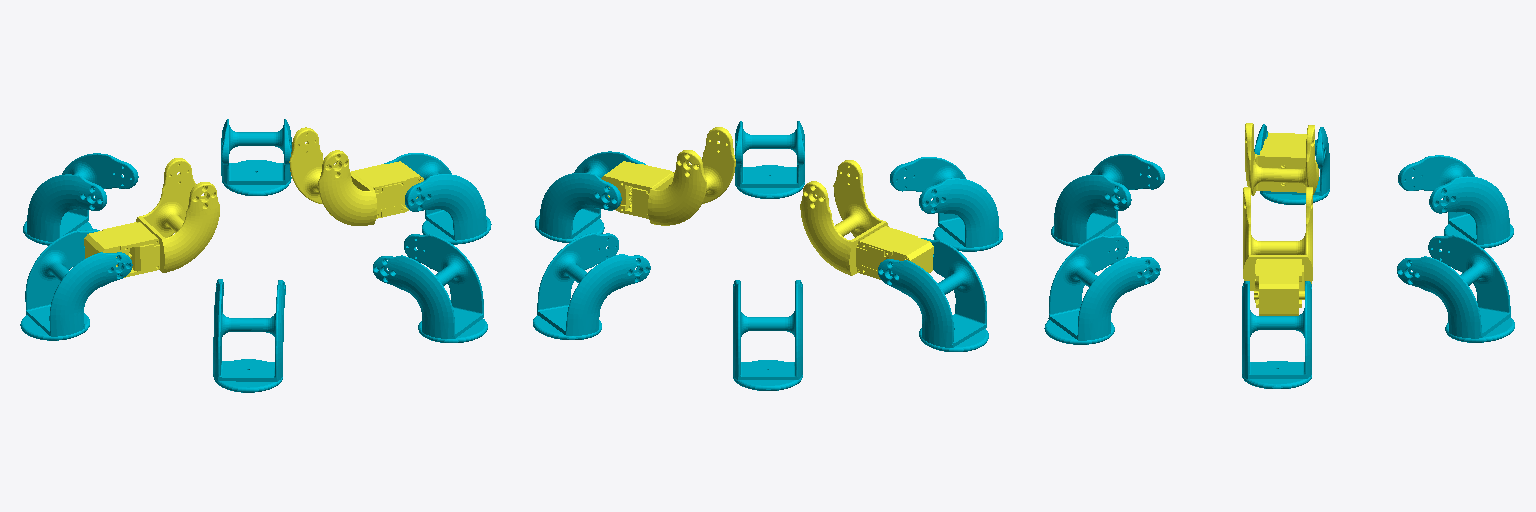
The robot description file, URDF, robot "dumbo":
<?xml version="1.0" encoding="utf-8"?>
<!-- This URDF was automatically created by SolidWorks to URDF Exporter! Originally created by [author] ([email redacted]) 
     Commit Version: 1.6.0-1-g15f4949  Build Version: 1.6.7594.29634
     For more information, please see http://wiki.ros.org/sw_urdf_exporter -->
<robot
  name="dumbo">
  <link
    name="base_link">
    <inertial>
      <origin
        xyz="-0.0003891 -4.683E-05 0.00058807"
        rpy="0 0 0" />
      <mass
        value="0.6644" />
      <inertia
        ixx="0.0015485"
        ixy="0.00031884"
        ixz="1.2531E-06"
        iyy="0.0011871"
        iyz="8.9035E-07"
        izz="0.0014583" />
    </inertial>
    <visual>
      <origin
        xyz="0 0 0"
        rpy="0 0 0" />
      <geometry>
        <mesh
          filename="package://dumbo/meshes/base_link.STL" />
      </geometry>
      <material
        name="">
        <color
          rgba="0 0.92 0.40 .7" />
      </material>
    </visual>
    <collision>
      <origin
        xyz="0 0 0"
        rpy="0 0 0" />
      <geometry>
        <mesh
          filename="package://dumbo/meshes/base_link.STL" />
      </geometry>
    </collision>
  </link>
  <link
    name="Link_1">
    <inertial>
      <origin
        xyz="0.037623 0.00122 -0.036859"
        rpy="0 0 0" />
      <mass
        value="0.055758" />
      <inertia
        ixx="1.7216E-05"
        ixy="2.9228E-09"
        ixz="2.6246E-06"
        iyy="1.5352E-05"
        iyz="3.2628E-11"
        izz="1.9775E-05" />
    </inertial>
    <visual>
      <origin
        xyz="0 0 0"
        rpy="0 0 0" />
      <geometry>
        <mesh
          filename="package://dumbo/meshes/Link_1.STL" />
      </geometry>
      <material
        name="">
        <color
          rgba="1 1 0.27 .7" />
      </material>
    </visual>
    <collision>
      <origin
        xyz="0 0 0"
        rpy="0 0 0" />
      <geometry>
        <mesh
          filename="package://dumbo/meshes/Link_1.STL" />
      </geometry>
    </collision>
  </link>
  <joint
    name="Joint_1"
    type="continuous">
    <origin
      xyz="0.053116 -0.0017161 -0.03956"
      rpy="0 0 0" />
    <parent
      link="base_link" />
    <child
      link="Link_1" />
    <axis
      xyz="0 -1 0" />
  </joint>
  <link
    name="Link_2">
    <inertial>
      <origin
        xyz="0.0300592980712255 0.000323452601505174 -0.0280232914478792"
        rpy="0 0 0" />
      <mass
        value="0.0314122028489567" />
      <inertia
        ixx="1.58162527624386E-05"
        ixy="1.79367144013202E-10"
        ixz="3.56096424632083E-06"
        iyy="1.22648801737665E-05"
        iyz="-1.77050389086186E-10"
        izz="1.69003925901005E-05" />
    </inertial>
    <visual>
      <origin
        xyz="0 0 0"
        rpy="0 0 0" />
      <geometry>
        <mesh
          filename="package://dumbo/meshes/Link_2.STL" />
      </geometry>
      <material
        name="">
        <color
          rgba="0 0.75 0.85 .7" />
      </material>
    </visual>
    <collision>
      <origin
        xyz="0 0 0"
        rpy="0 0 0" />
      <geometry>
        <mesh
          filename="package://dumbo/meshes/Link_2.STL" />
      </geometry>
    </collision>
  </link>
  <joint
    name="Joint_2"
    type="continuous">
    <origin
      xyz="0.071566 0 -0.034398"
      rpy="0 0 0" />
    <parent
      link="Link_1" />
    <child
      link="Link_2" />
    <axis
      xyz="0 1 0" />
  </joint>
  <link
    name="Link_3">
    <inertial>
      <origin
        xyz="-0.0372383623183203 0.00107559636099163 -0.0373010602535738"
        rpy="0 0 0" />
      <mass
        value="0.0557577667089777" />
      <inertia
        ixx="1.7262977682283E-05"
        ixy="-1.69489968723823E-07"
        ixz="-2.64335312248121E-06"
        iyy="1.53666258146298E-05"
        iyz="2.38436585026532E-07"
        izz="1.97124812643958E-05" />
    </inertial>
    <visual>
      <origin
        xyz="0 0 0"
        rpy="0 0 0" />
      <geometry>
        <mesh
          filename="package://dumbo/meshes/Link_3.STL" />
      </geometry>
      <material
        name="">
        <color
          rgba="1 1 0.27 .7" />
      </material>
    </visual>
    <collision>
      <origin
        xyz="0 0 0"
        rpy="0 0 0" />
      <geometry>
        <mesh
          filename="package://dumbo/meshes/Link_3.STL" />
      </geometry>
    </collision>
  </link>
  <joint
    name="Joint_3"
    type="continuous">
    <origin
      xyz="-0.0528669815983072 0.00275904378510602 -0.0395600000000004"
      rpy="0 0 0" />
    <parent
      link="base_link" />
    <child
      link="Link_3" />
    <axis
      xyz="0.0898380495475384 0.995956387023796 0" />
  </joint>
  <link
    name="Link_4">
    <inertial>
      <origin
        xyz="-0.0316383907021758 0.00147070619407172 -0.0242511217385708"
        rpy="0 0 0" />
      <mass
        value="0.0314120671897481" />
      <inertia
        ixx="1.66177005868051E-05"
        ixy="-3.92516383766082E-07"
        ixz="-3.57535683649491E-06"
        iyy="1.23002274687641E-05"
        iyz="3.22695798191187E-07"
        izz="1.60634342613991E-05" />
    </inertial>
    <visual>
      <origin
        xyz="0 0 0"
        rpy="0 0 0" />
      <geometry>
        <mesh
          filename="package://dumbo/meshes/Link_4.STL" />
      </geometry>
      <material
        name="">
        <color
          rgba="0 0.75 0.85 .7" />
      </material>
    </visual>
    <collision>
      <origin
        xyz="0 0 0"
        rpy="0 0 0" />
      <geometry>
        <mesh
          filename="package://dumbo/meshes/Link_4.STL" />
      </geometry>
    </collision>
  </link>
  <joint
    name="Joint_4"
    type="continuous">
    <origin
      xyz="-0.066607 0.0060081 -0.042807"
      rpy="0 0 0" />
    <parent
      link="Link_3" />
    <child
      link="Link_4" />
    <axis
      xyz="-0.089838 -0.99596 0" />
  </joint>
  <link
    name="Link_5">
    <inertial>
      <origin
        xyz="-0.014954 -0.028746 -0.02337"
        rpy="0 0 0" />
      <mass
        value="0.031412" />
      <inertia
        ixx="1.3447E-05"
        ixy="1.8859E-06"
        ixz="-1.9132E-06"
        iyy="1.5272E-05"
        iyz="-3.0504E-06"
        izz="1.6262E-05" />
    </inertial>
    <visual>
      <origin
        xyz="0 0 0"
        rpy="0 0 0" />
      <geometry>
        <mesh
          filename="package://dumbo/meshes/Link_5.STL" />
      </geometry>
      <material
        name="">
        <color
          rgba="0 0.75 0.85 .7" />
      </material>
    </visual>
    <collision>
      <origin
        xyz="0 0 0"
        rpy="0 0 0" />
      <geometry>
        <mesh
          filename="package://dumbo/meshes/Link_5.STL" />
      </geometry>
    </collision>
  </link>
  <joint
    name="Joint_5"
    type="continuous">
    <origin
      xyz="-0.0657559231458219 -0.101379319496857 -0.0820000000000009"
      rpy="0 0 0" />
    <parent
      link="base_link" />
    <child
      link="Link_5" />
    <axis
      xyz="0.847190832012041 -0.531288710735271 0" />
  </joint>
  <link
    name="Link_6">
    <inertial>
      <origin
        xyz="0.0191401353376151 -0.0271899690921557 -0.0221954595021001"
        rpy="0 0 0" />
      <mass
        value="0.0314118845736051" />
      <inertia
        ixx="1.32474865737016E-05"
        ixy="-1.70241252361309E-06"
        ixz="1.79902672883724E-06"
        iyy="1.52131164771294E-05"
        iyz="-3.11615758364275E-06"
        izz="1.65201027200006E-05" />
    </inertial>
    <visual>
      <origin
        xyz="0 0 0"
        rpy="0 0 0" />
      <geometry>
        <mesh
          filename="package://dumbo/meshes/Link_6.STL" />
      </geometry>
      <material
        name="">
        <color
          rgba="0 0.75 0.85 .7" />
      </material>
    </visual>
    <collision>
      <origin
        xyz="0 0 0"
        rpy="0 0 0" />
      <geometry>
        <mesh
          filename="package://dumbo/meshes/Link_6.STL" />
      </geometry>
    </collision>
  </link>
  <joint
    name="Joint_6"
    type="continuous">
    <origin
      xyz="0.057373 -0.10673 -0.082"
      rpy="0 0 0" />
    <parent
      link="base_link" />
    <child
      link="Link_6" />
    <axis
      xyz="0.86603 0.5 0" />
  </joint>
  <link
    name="Link_7">
    <inertial>
      <origin
        xyz="0.019392 0.028273 -0.020519"
        rpy="0 0 0" />
      <mass
        value="0.031412" />
      <inertia
        ixx="1.3158E-05"
        ixy="1.5477E-06"
        ixz="1.7824E-06"
        iyy="1.4946E-05"
        iyz="3.0868E-06"
        izz="1.6877E-05" />
    </inertial>
    <visual>
      <origin
        xyz="0 0 0"
        rpy="0 0 0" />
      <geometry>
        <mesh
          filename="package://dumbo/meshes/Link_7.STL" />
      </geometry>
      <material
        name="">
        <color
          rgba="0 0.75 0.85 .7" />
      </material>
    </visual>
    <collision>
      <origin
        xyz="0 0 0"
        rpy="0 0 0" />
      <geometry>
        <mesh
          filename="package://dumbo/meshes/Link_7.STL" />
      </geometry>
    </collision>
  </link>
  <joint
    name="Joint_7"
    type="continuous">
    <origin
      xyz="0.05886 0.10587 -0.082"
      rpy="0 0 0" />
    <parent
      link="base_link" />
    <child
      link="Link_7" />
    <axis
      xyz="-0.86603 0.5 0" />
  </joint>
  <link
    name="Link_8">
    <inertial>
      <origin
        xyz="-0.012823430092728 0.0309579223793746 -0.0220383000936515"
        rpy="0 0 0" />
      <mass
        value="0.0314118850791331" />
      <inertia
        ixx="1.32389647064647E-05"
        ixy="-1.68765202190941E-06"
        ixz="-1.79817842620008E-06"
        iyy="1.51875495748829E-05"
        iyz="3.11468784206545E-06"
        izz="1.65541914419128E-05" />
    </inertial>
    <visual>
      <origin
        xyz="0 0 0"
        rpy="0 0 0" />
      <geometry>
        <mesh
          filename="package://dumbo/meshes/Link_8.STL" />
      </geometry>
      <material
        name="">
        <color
          rgba="0 0.75 0.85 .7" />
      </material>
    </visual>
    <collision>
      <origin
        xyz="0 0 0"
        rpy="0 0 0" />
      <geometry>
        <mesh
          filename="package://dumbo/meshes/Link_8.STL" />
      </geometry>
    </collision>
  </link>
  <joint
    name="Joint_8"
    type="continuous">
    <origin
      xyz="-0.063742 0.10305 -0.082"
      rpy="0 0 0" />
    <parent
      link="base_link" />
    <child
      link="Link_8" />
    <axis
      xyz="-0.86603 -0.5 0" />
  </joint>
</robot>

--- Facts derived from the render (not from the file) ---
The picture shows the robot from 3 angles, left to right: view 1: azimuth 30°, elevation 25°; view 2: azimuth 150°, elevation 25°; view 3: azimuth 270°, elevation 25°; orthographic projection.
Robot: dumbo — 9 links, 8 joints (8 continuous); root link base_link; default pose: every joint at zero.
Links seen in each view (by area): view 1: Link_3, Link_6, Link_4, Link_1, Link_8, Link_2, Link_5, Link_7; view 2: Link_3, Link_7, Link_4, Link_1, Link_5, Link_2, Link_8, Link_6; view 3: Link_6, Link_7, Link_8, Link_5, Link_1, Link_3, Link_2, Link_4.
Boxes of the visible links, x1,y1,x2,y2 form: Link_3: (84, 158, 219, 277); Link_6: (373, 234, 487, 342); Link_4: (20, 229, 132, 340); Link_1: (289, 127, 423, 225); Link_8: (23, 153, 138, 245); Link_2: (384, 153, 491, 244); Link_5: (213, 279, 285, 392); Link_7: (221, 119, 291, 195); Link_3: (800, 160, 933, 279); Link_7: (533, 233, 650, 339); Link_4: (878, 238, 988, 351); Link_1: (601, 127, 735, 225); Link_5: (890, 157, 1002, 251); Link_2: (535, 151, 645, 242); Link_8: (733, 280, 802, 390); Link_6: (735, 121, 804, 198); Link_6: (1044, 235, 1160, 344); Link_7: (1397, 235, 1514, 342); Link_8: (1398, 155, 1513, 248); Link_5: (1051, 154, 1164, 247); Link_1: (1243, 187, 1312, 315); Link_3: (1245, 123, 1318, 195); Link_2: (1242, 281, 1311, 388); Link_4: (1254, 124, 1329, 204).
Bounding box of the posed robot: 0.3731 × 0.3342 × 0.1028 m (x, y, z).
Meshes: 9 distinct files referenced, 8 mesh visuals loaded (8 binary STL); not drawn: 1 (reference not matched to a file when rendering).